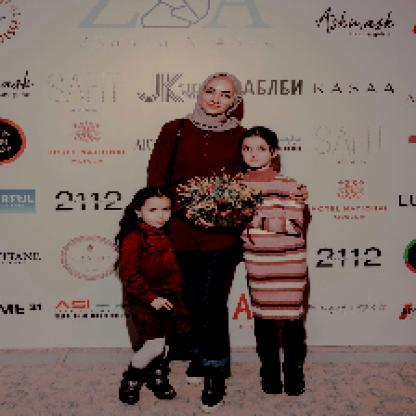child: (116, 188, 192, 406)
